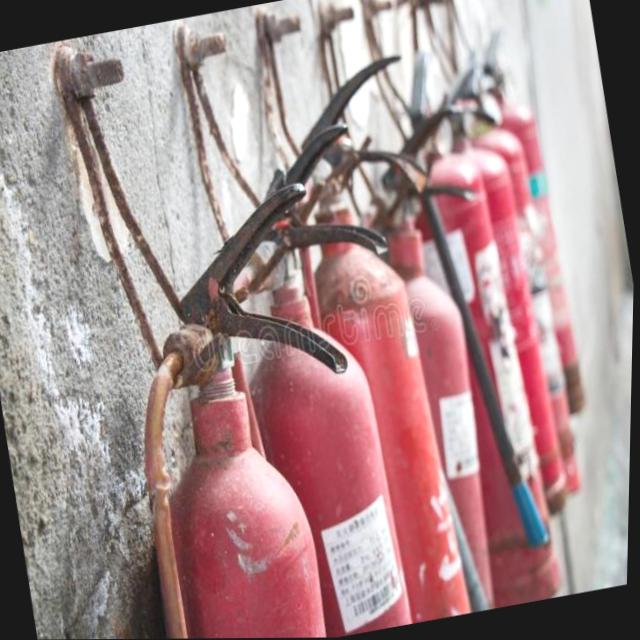FireExtinguisher: (243, 45, 508, 637), (86, 173, 401, 639), (185, 113, 459, 639), (329, 93, 560, 623), (365, 78, 578, 616)
